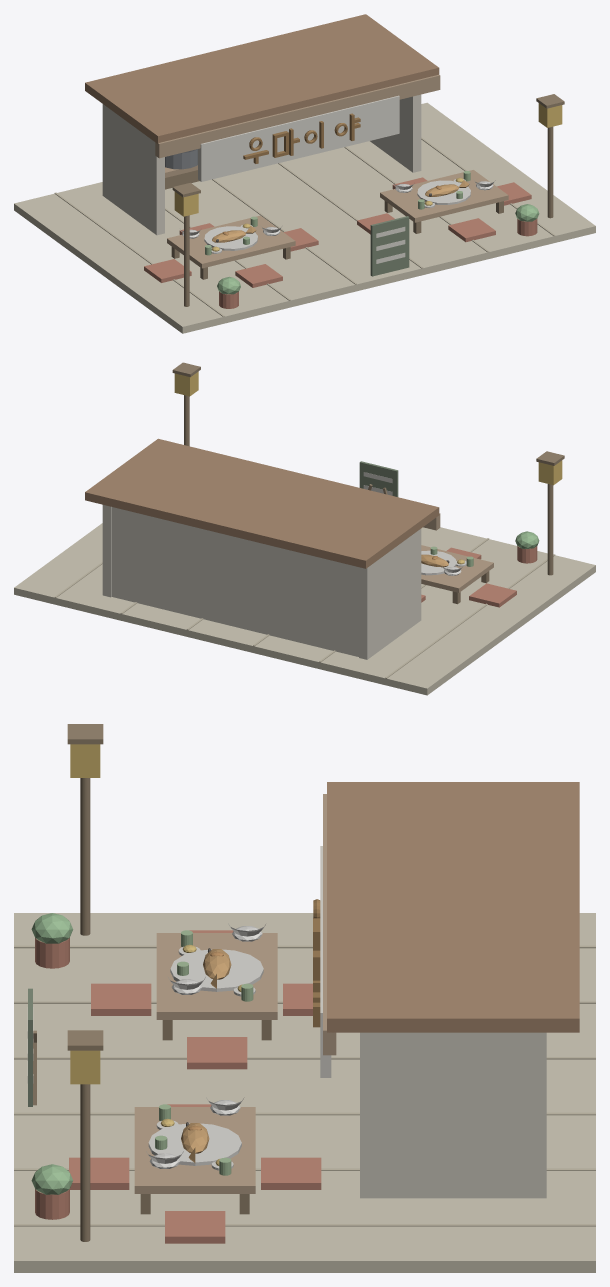
The model's file is umaiya.glb.
The picture shows the model from 3 angles, top to bottom: view 1: azimuth 30°, elevation 25°; view 2: azimuth 150°, elevation 25°; view 3: azimuth 270°, elevation 25°; orthographic projection. The views are drawn at different scales.
Parts seen in each view (by area): view 1: part_17, part_09, part_12, part_20, part_23, part_13, part_04, part_22, part_02, part_14, part_06, part_21 (+3 smaller); view 2: part_20, part_17, part_09, part_04, part_12, part_13, part_21, part_02, part_14, part_22; view 3: part_17, part_09, part_20, part_12, part_13, part_04, part_22, part_14, part_21, part_05, part_15, part_08 (+3 smaller).
Part boxes in pixels (x1,y1,x2,y2): part_17: (14, 102, 595, 333); part_09: (85, 14, 439, 143); part_12: (155, 74, 508, 268); part_20: (102, 94, 421, 235); part_23: (198, 95, 405, 263); part_13: (144, 177, 537, 308); part_04: (165, 94, 564, 306); part_22: (180, 179, 495, 253); part_02: (370, 216, 409, 276); part_14: (54, 137, 555, 316); part_06: (243, 113, 360, 163); part_21: (174, 103, 562, 216); part_20: (102, 505, 421, 659); part_17: (14, 523, 595, 695); part_09: (85, 438, 439, 568); part_04: (172, 362, 564, 604); part_12: (421, 513, 493, 592); part_13: (421, 546, 537, 607); part_21: (174, 371, 562, 485); part_02: (359, 461, 398, 496); part_14: (54, 538, 555, 678); part_22: (421, 550, 466, 575); part_17: (14, 913, 595, 1272); part_09: (327, 782, 579, 1032); part_20: (360, 1032, 546, 1198); part_12: (134, 794, 336, 1193); part_13: (35, 930, 321, 1243); part_04: (33, 724, 271, 1241); part_22: (146, 923, 265, 1170); part_14: (14, 945, 595, 1226); part_21: (70, 744, 100, 1084); part_05: (31, 913, 73, 1194); part_15: (181, 949, 231, 1163); part_08: (155, 930, 253, 1175).
Size of the model in its own units: 15 by 4.3 by 10.6.
